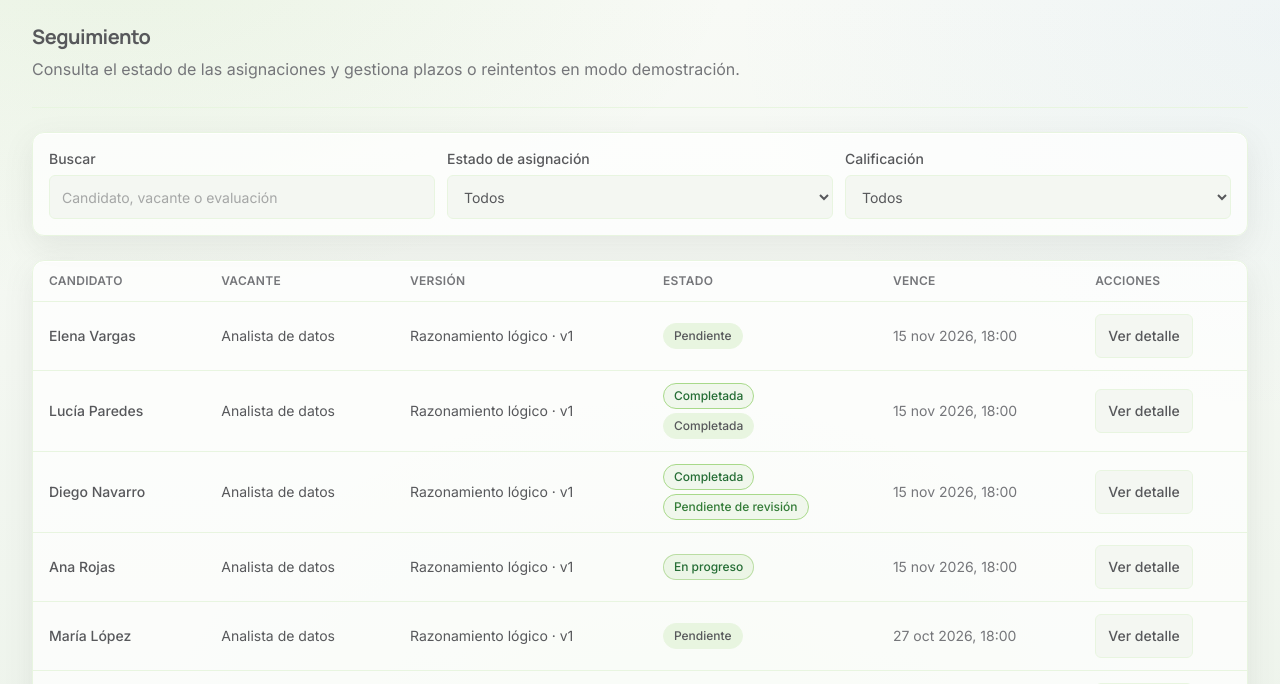
it: PruebasTrackingScreen UI › links Diego pending review to the manual review detail and results
Click the button "Ver detalle" in the row of "Diego Navarro" at [1144, 492], box [1095, 470, 1193, 514]
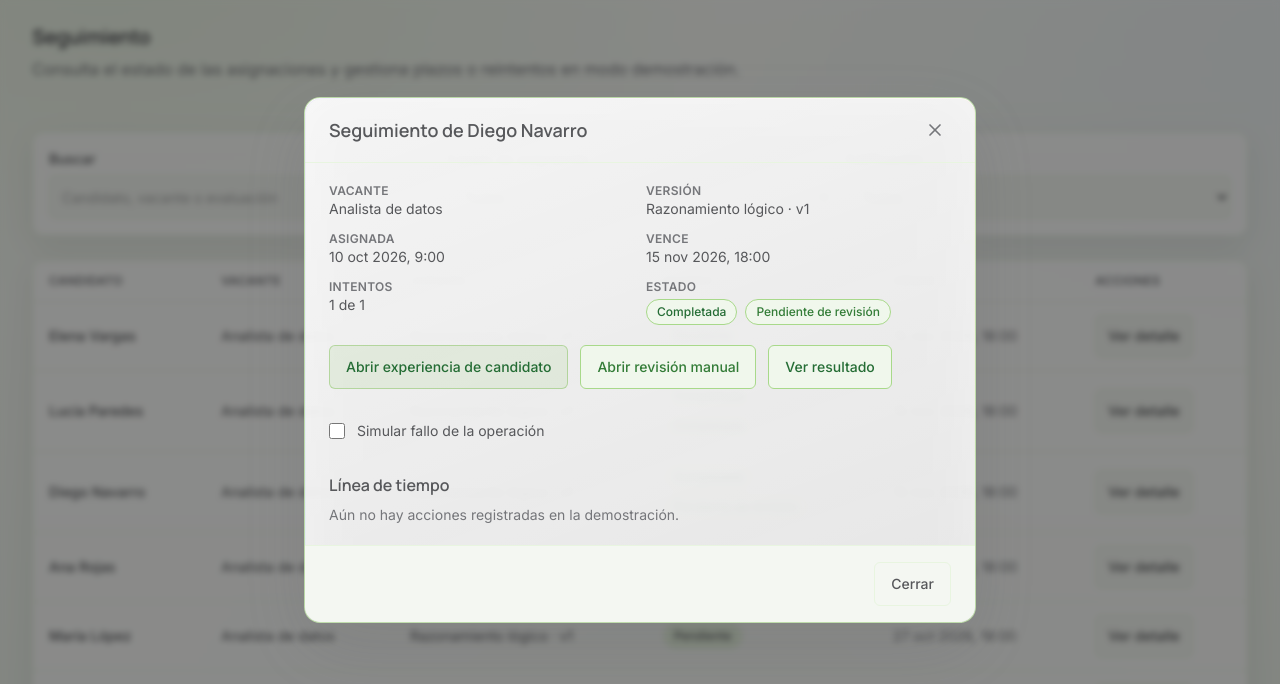
Expected: the element with test id "tracking-detail" is shown, [329, 183, 951, 525]
